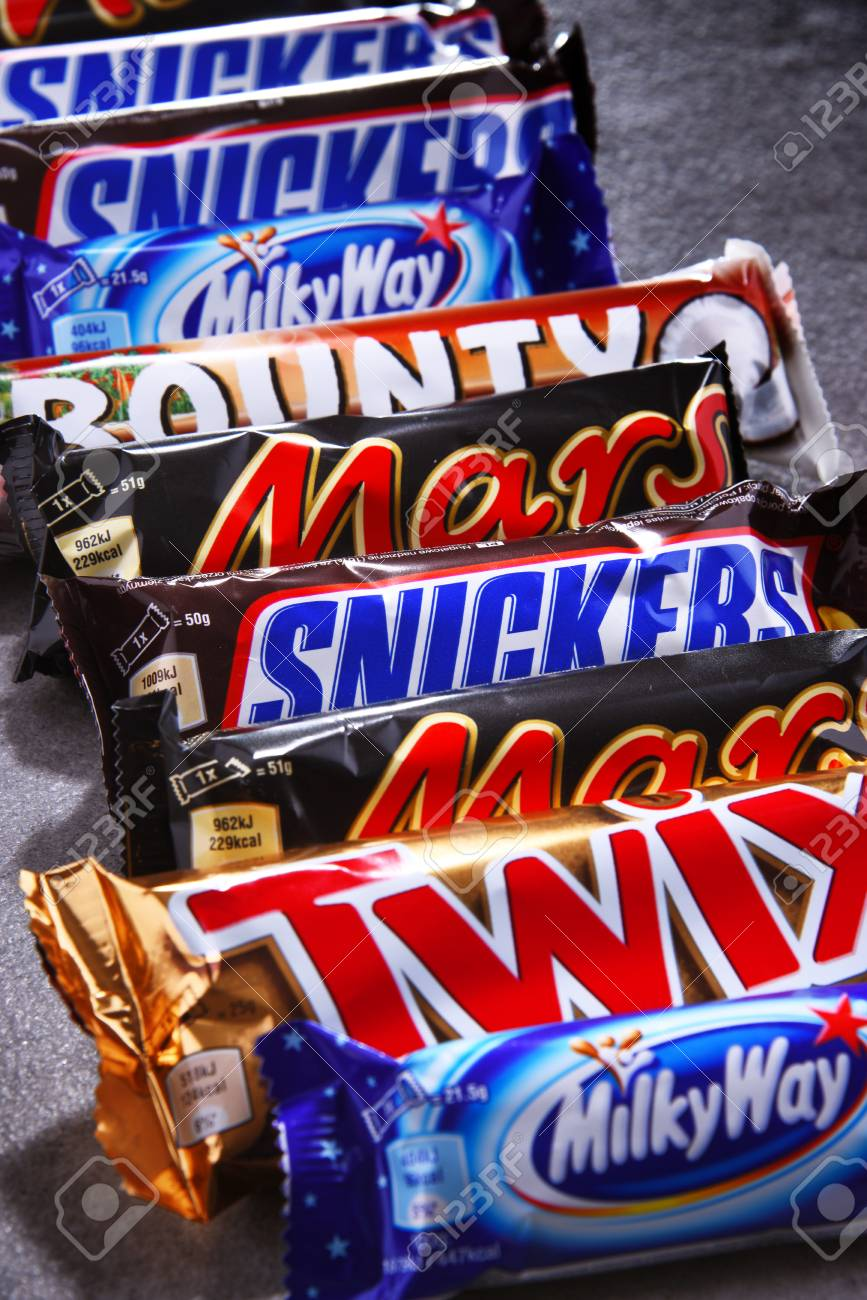snickers: (244, 529, 806, 721), (244, 529, 796, 721), (58, 93, 586, 243), (4, 1, 498, 115)
